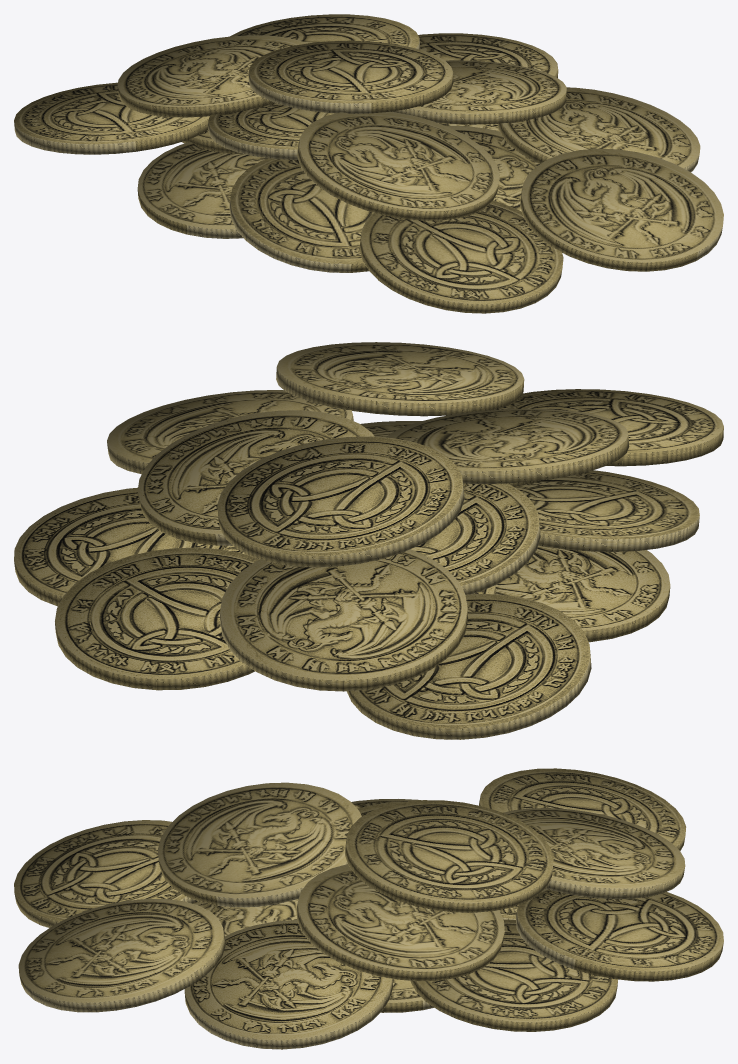
File: PlentyGoldCoins.fbx
The picture shows the model from 3 angles, top to bottom: view 1: azimuth 30°, elevation 25°; view 2: azimuth 150°, elevation 25°; view 3: azimuth 270°, elevation 25°; orthographic projection. The views are drawn at different scales.
Parts seen in each view (by area): view 1: PlentyGoldCoins; view 2: PlentyGoldCoins; view 3: PlentyGoldCoins.
Part boxes in pixels (x1,y1,x2,y2): PlentyGoldCoins: (14, 14, 723, 313); PlentyGoldCoins: (14, 342, 723, 739); PlentyGoldCoins: (14, 768, 723, 1049).
Bounding box in the file's own units: 34.91 × 5.36 × 40.73.
